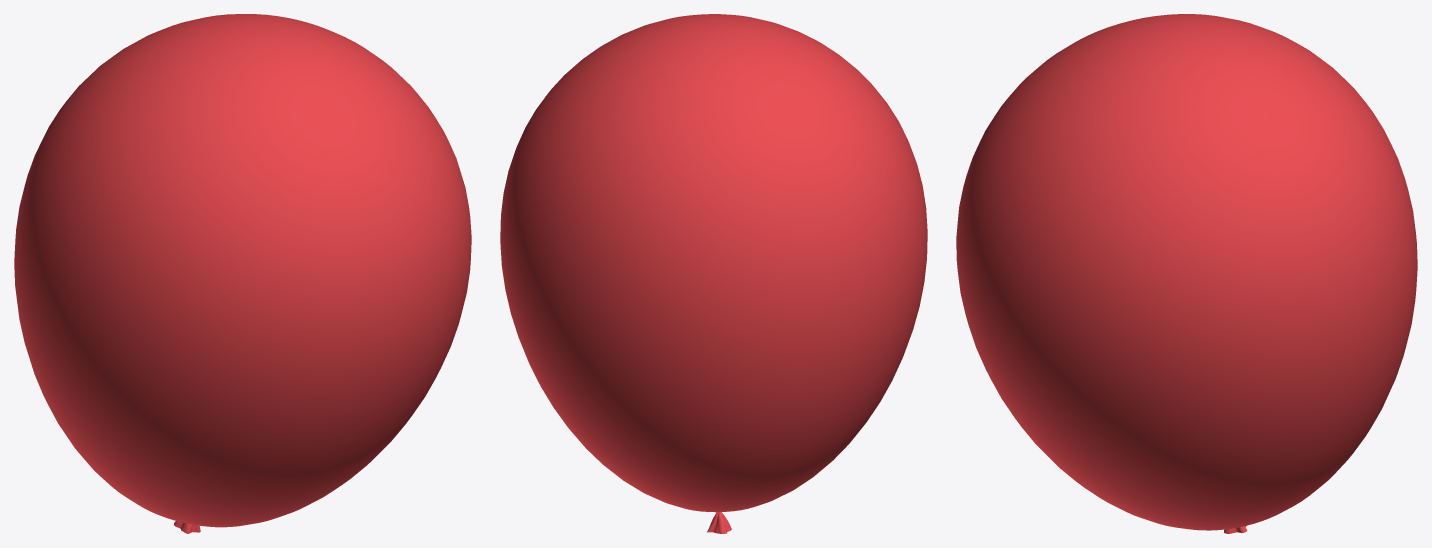
Rendered from balloonred.fbx.
The picture shows the model from 3 angles, left to right: view 1: azimuth 30°, elevation 25°; view 2: azimuth 150°, elevation 25°; view 3: azimuth 270°, elevation 25°; orthographic projection. The views are drawn at different scales.
Visible parts, largest first — view 1: Sphere; view 2: Sphere; view 3: Sphere.
Part boxes in pixels (x1,y1,x2,y2): Sphere: [14, 14, 471, 533]; Sphere: [500, 14, 927, 533]; Sphere: [956, 14, 1417, 533].
Size of the model in its own units: 180 by 220 by 180.
